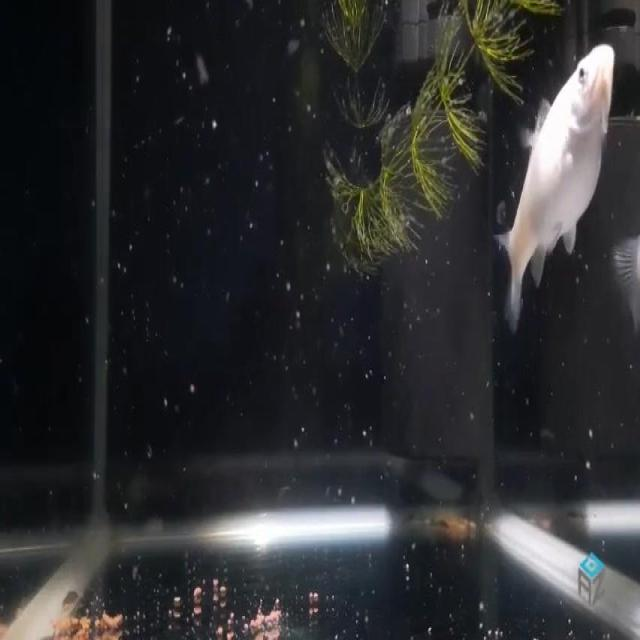PlatyFish: (489, 29, 622, 346)
